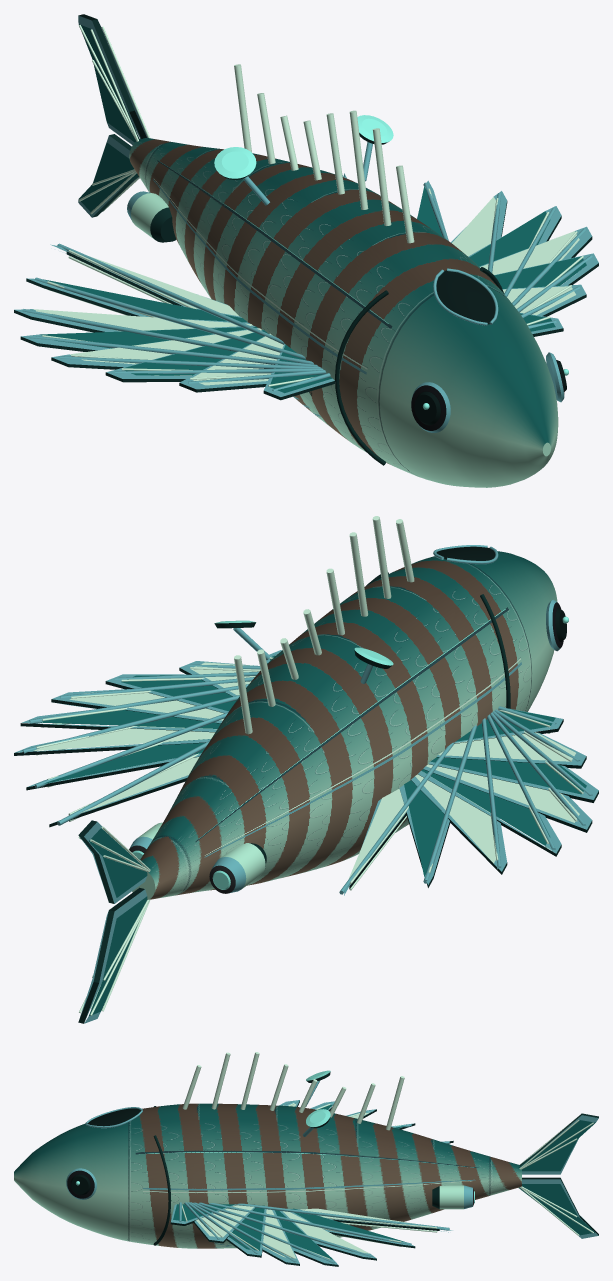
3 renders of one model, top to bottom at view 1: azimuth 30°, elevation 25°; view 2: azimuth 150°, elevation 25°; view 3: azimuth 270°, elevation 25°, orthographic. The views are drawn at different scales.
Visible parts, largest first — view 1: lionfish_hull; view 2: lionfish_hull; view 3: lionfish_hull.
Part boxes in pixels (bbox=[...]): lionfish_hull: bbox=[14, 14, 598, 487]; lionfish_hull: bbox=[14, 516, 598, 1023]; lionfish_hull: bbox=[14, 1052, 598, 1266].
Size of the model in its own units: 25.23 by 13.71 by 38.
1 material, 1 textured.
